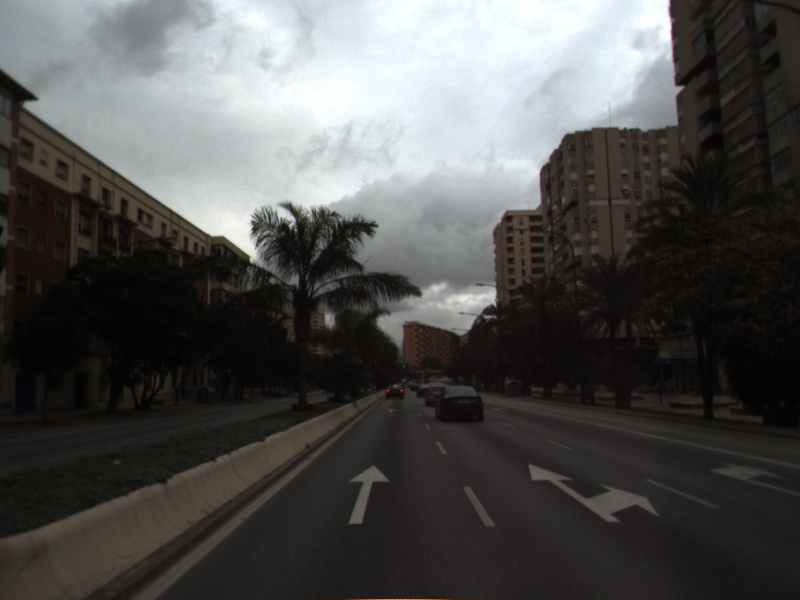RIGHT: (708, 459, 800, 498)
STRAIGHT: (345, 462, 392, 526)
STRAIGHT_RIGHT: (526, 461, 661, 526)
